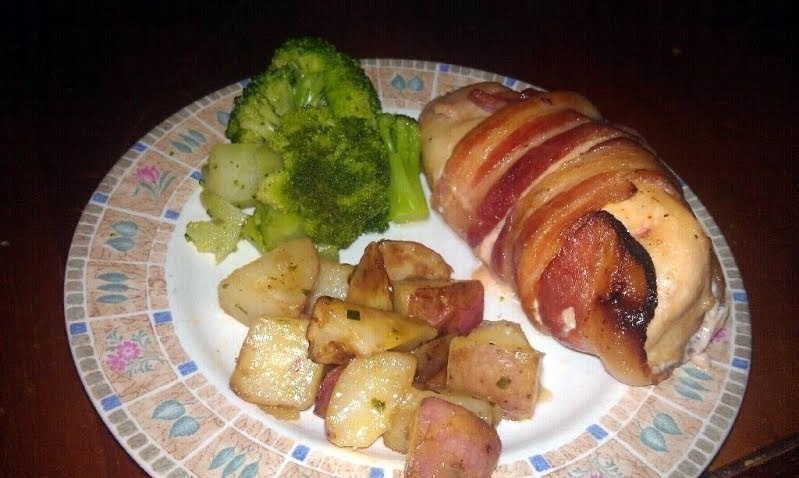background: (230, 25, 799, 356)
